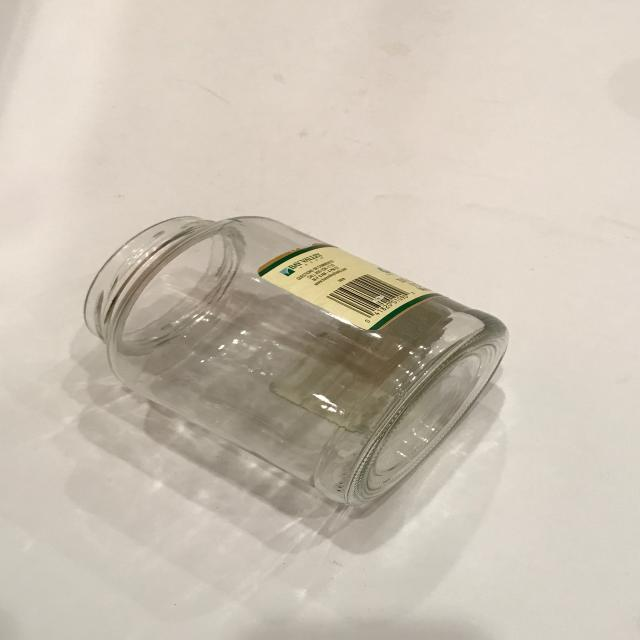glass: (82, 213, 510, 508)
